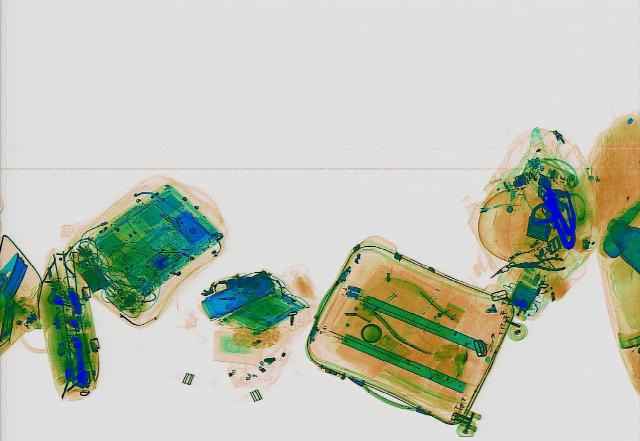Pliers: (508, 256, 564, 272)
